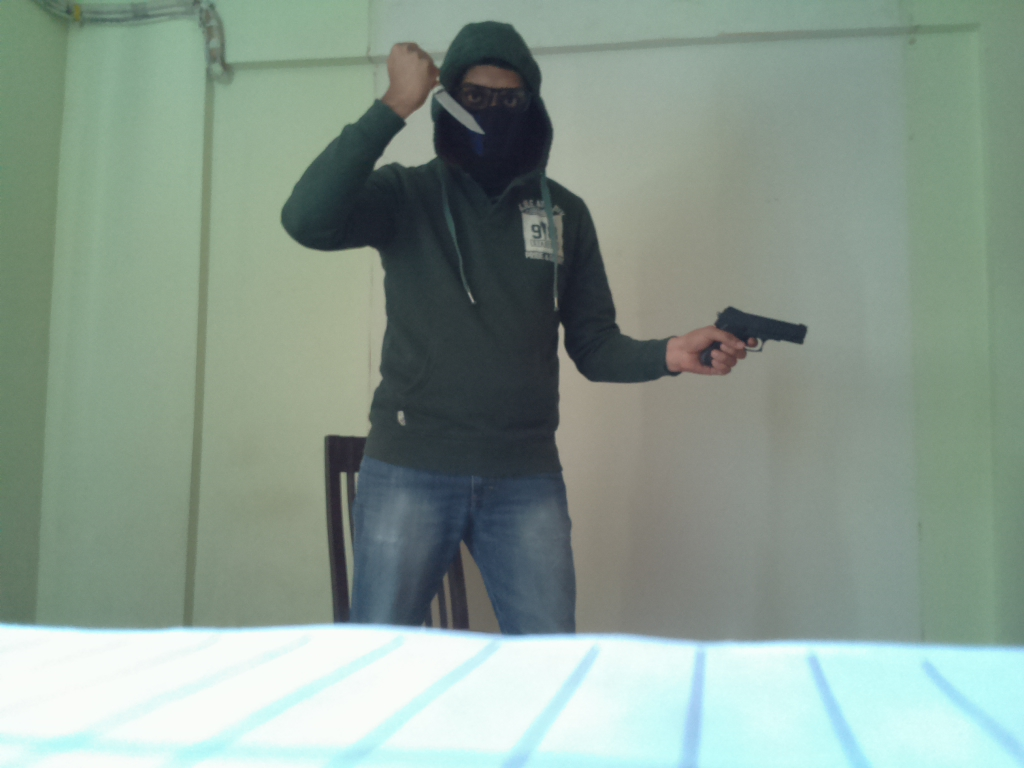gun: (698, 313, 816, 371)
knife: (419, 58, 487, 149)
